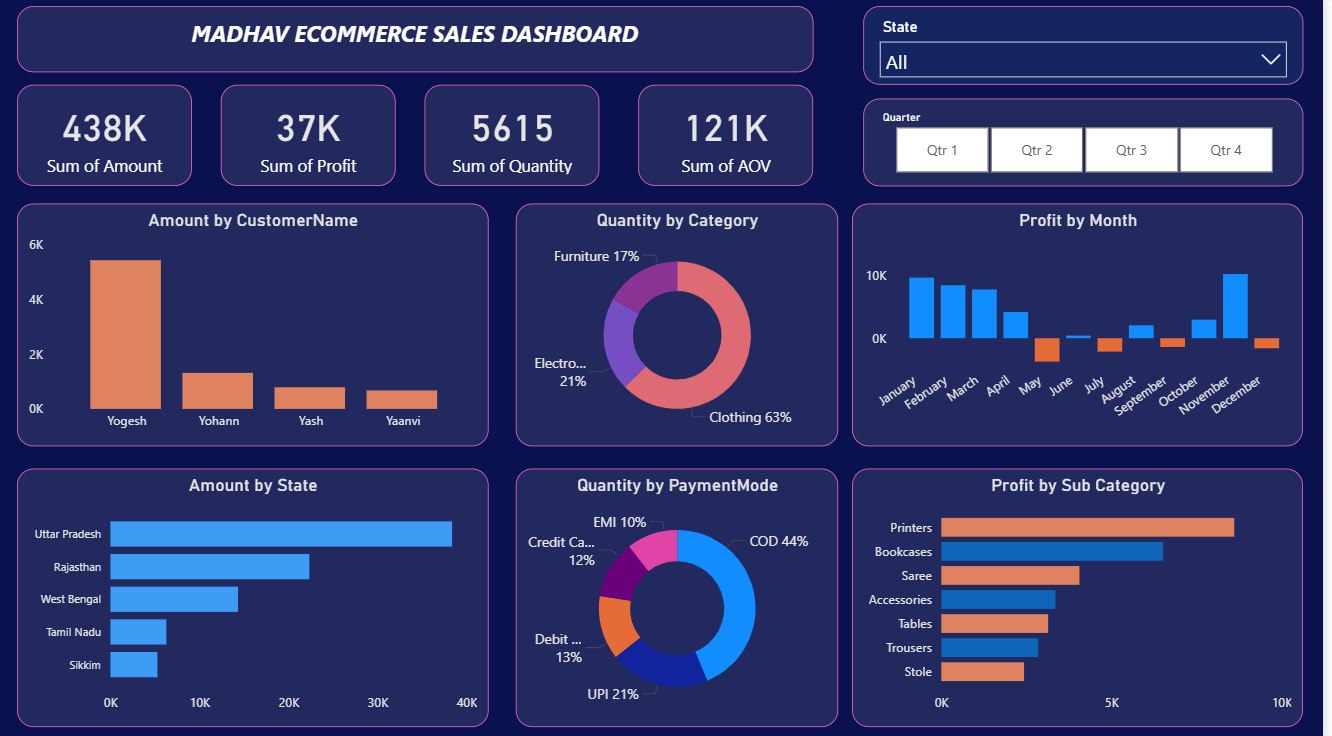

The page's visual inventory and layout, read from the dashboard file:
{"tool":"powerbi","page":{"name":"Page 1","canvas":[1280,720],"ordinal":0},"visuals":[{"type":"textbox","box":[19.3,9.7,768.5,63.9],"z":0},{"type":"columnChart","title":"Profit by Month","fields":{"Y":["Sum(Details.Profit)"],"Category":["Orders.Order Date.Variation.Date Hierarchy.Month"]},"box":[825.2,200.3,435.5,234],"z":1000},{"type":"barChart","title":"Profit by Sub Category","fields":{"Category":["Details.Sub-Category"],"Y":["Sum(Details.Profit)"]},"box":[825.2,456,435.5,249.7],"z":2000},{"type":"donutChart","title":"Quantity by Category","fields":{"Category":["Details.Category"],"Y":["Sum(Details.Quantity)"]},"box":[500.7,200.3,311.3,234],"z":3000},{"type":"donutChart","title":"Quantity by PaymentMode","fields":{"Y":["Sum(Details.Quantity)"],"Category":["Details.PaymentMode"]},"box":[500.7,456,311.3,249.7],"z":4000},{"type":"card","fields":{"Values":["Sum(Details.Amount)"]},"box":[19.3,85.7,168.9,97.7],"z":5000},{"type":"card","fields":{"Values":["Sum(Details.Profit)"]},"box":[216,85.7,168.9,97.7],"z":6000},{"type":"card","fields":{"Values":["Sum(Details.Quantity)"]},"box":[412.6,85.7,168.9,97.7],"z":7000},{"type":"card","fields":{"Values":["Sum(Details.AOV)"]},"box":[618.9,85.7,168.9,97.7],"z":8000},{"type":"clusteredBarChart","title":"Amount by State","fields":{"Y":["Sum(Details.Amount)"],"Category":["Orders.State"]},"box":[19.3,456,454.8,249.7],"z":9000},{"type":"columnChart","title":"Amount by CustomerName","fields":{"Y":["Sum(Details.Amount)"],"Category":["Orders.CustomerName"]},"box":[19.3,200.3,454.8,234],"z":10000},{"type":"slicer","fields":{"Values":["Orders.Order Date.Variation.Date Hierarchy.Quarter"]},"box":[836.1,98.9,424.7,84.5],"z":11000},{"type":"slicer","fields":{"Values":["Orders.State"]},"box":[836.1,9.7,424.7,76],"z":12000}]}

Visuals, with their boxes in screenshot pixels (x1, y1, x2, y2), scaled from the page's 1280x720 canvas onto the 1332x736 screenshot:
textbox: 20:10:820:75
"Profit by Month" columnChart: 859:205:1312:444
"Profit by Sub Category" barChart: 859:466:1312:721
"Quantity by Category" donutChart: 521:205:845:444
"Quantity by PaymentMode" donutChart: 521:466:845:721
card - Sum(Details.Amount): 20:88:196:187
card - Sum(Details.Profit): 225:88:401:187
card - Sum(Details.Quantity): 429:88:605:187
card - Sum(Details.AOV): 644:88:820:187
"Amount by State" clusteredBarChart: 20:466:493:721
"Amount by CustomerName" columnChart: 20:205:493:444
slicer - Orders.Order Date.Variation.Date Hierarchy.Quarter: 870:101:1312:187
slicer - Orders.State: 870:10:1312:88
